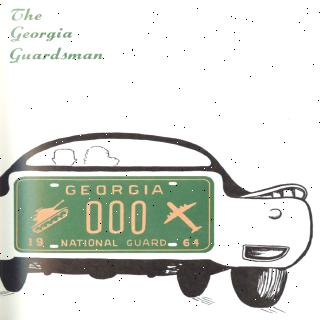license: (15, 175, 217, 256)
